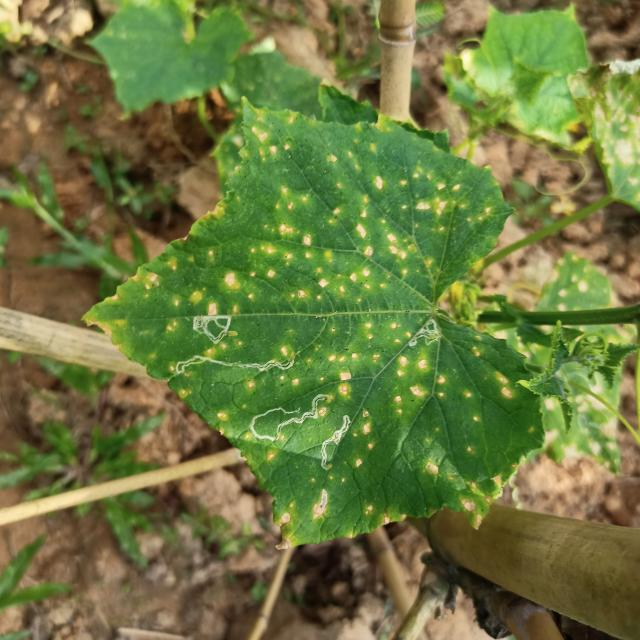disease_cucumber: (127, 133, 490, 318), (389, 345, 486, 424), (330, 320, 410, 402), (414, 460, 510, 521), (272, 484, 335, 544), (350, 418, 376, 472), (488, 367, 516, 411), (204, 341, 244, 356), (277, 374, 302, 388)
